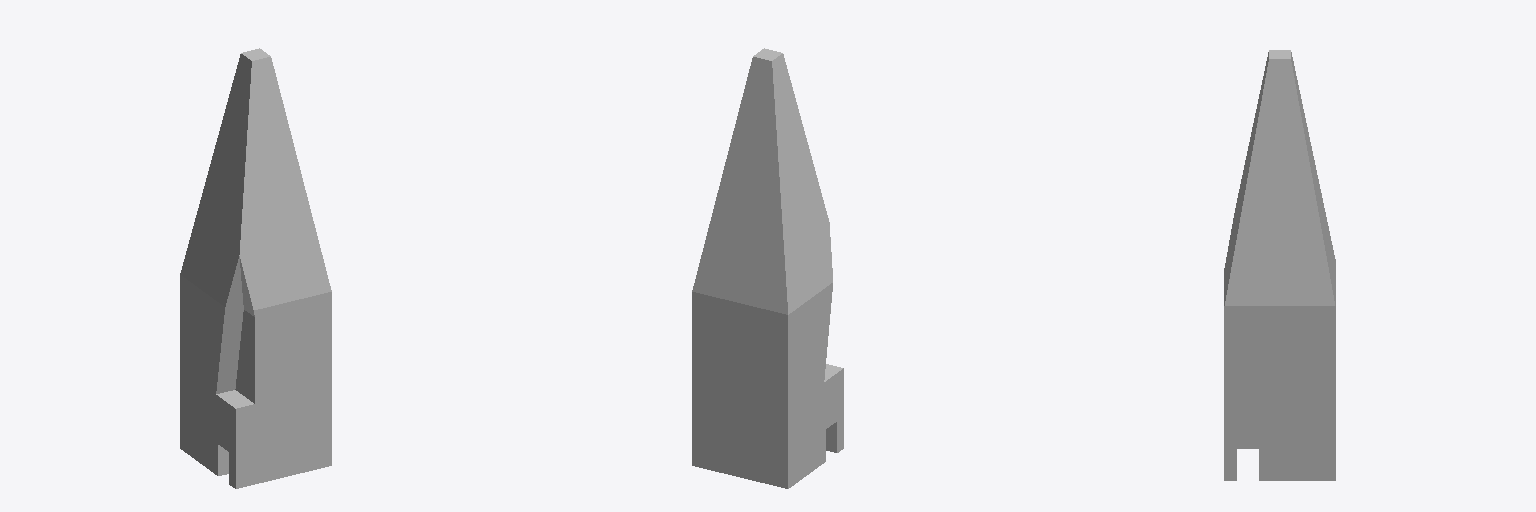
Rendered from Body4.obj.
The picture shows the model from 3 angles: view 1: azimuth 30°, elevation 25°; view 2: azimuth 150°, elevation 25°; view 3: azimuth 270°, elevation 25°; orthographic projection.
Parts seen in each view (by area): view 1: Body4; view 2: Body4; view 3: Body4.
Boxes of the visible parts, box(x1,y1,x2,y2) form: Body4: box(180, 48, 331, 488); Body4: box(692, 48, 843, 488); Body4: box(1224, 50, 1335, 480).
Bounding box in the file's own units: 25 × 100 × 25.